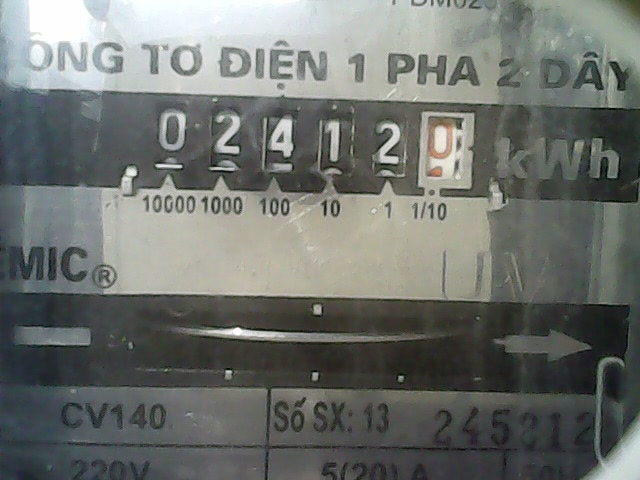phy_plate: (133, 89, 482, 201)
